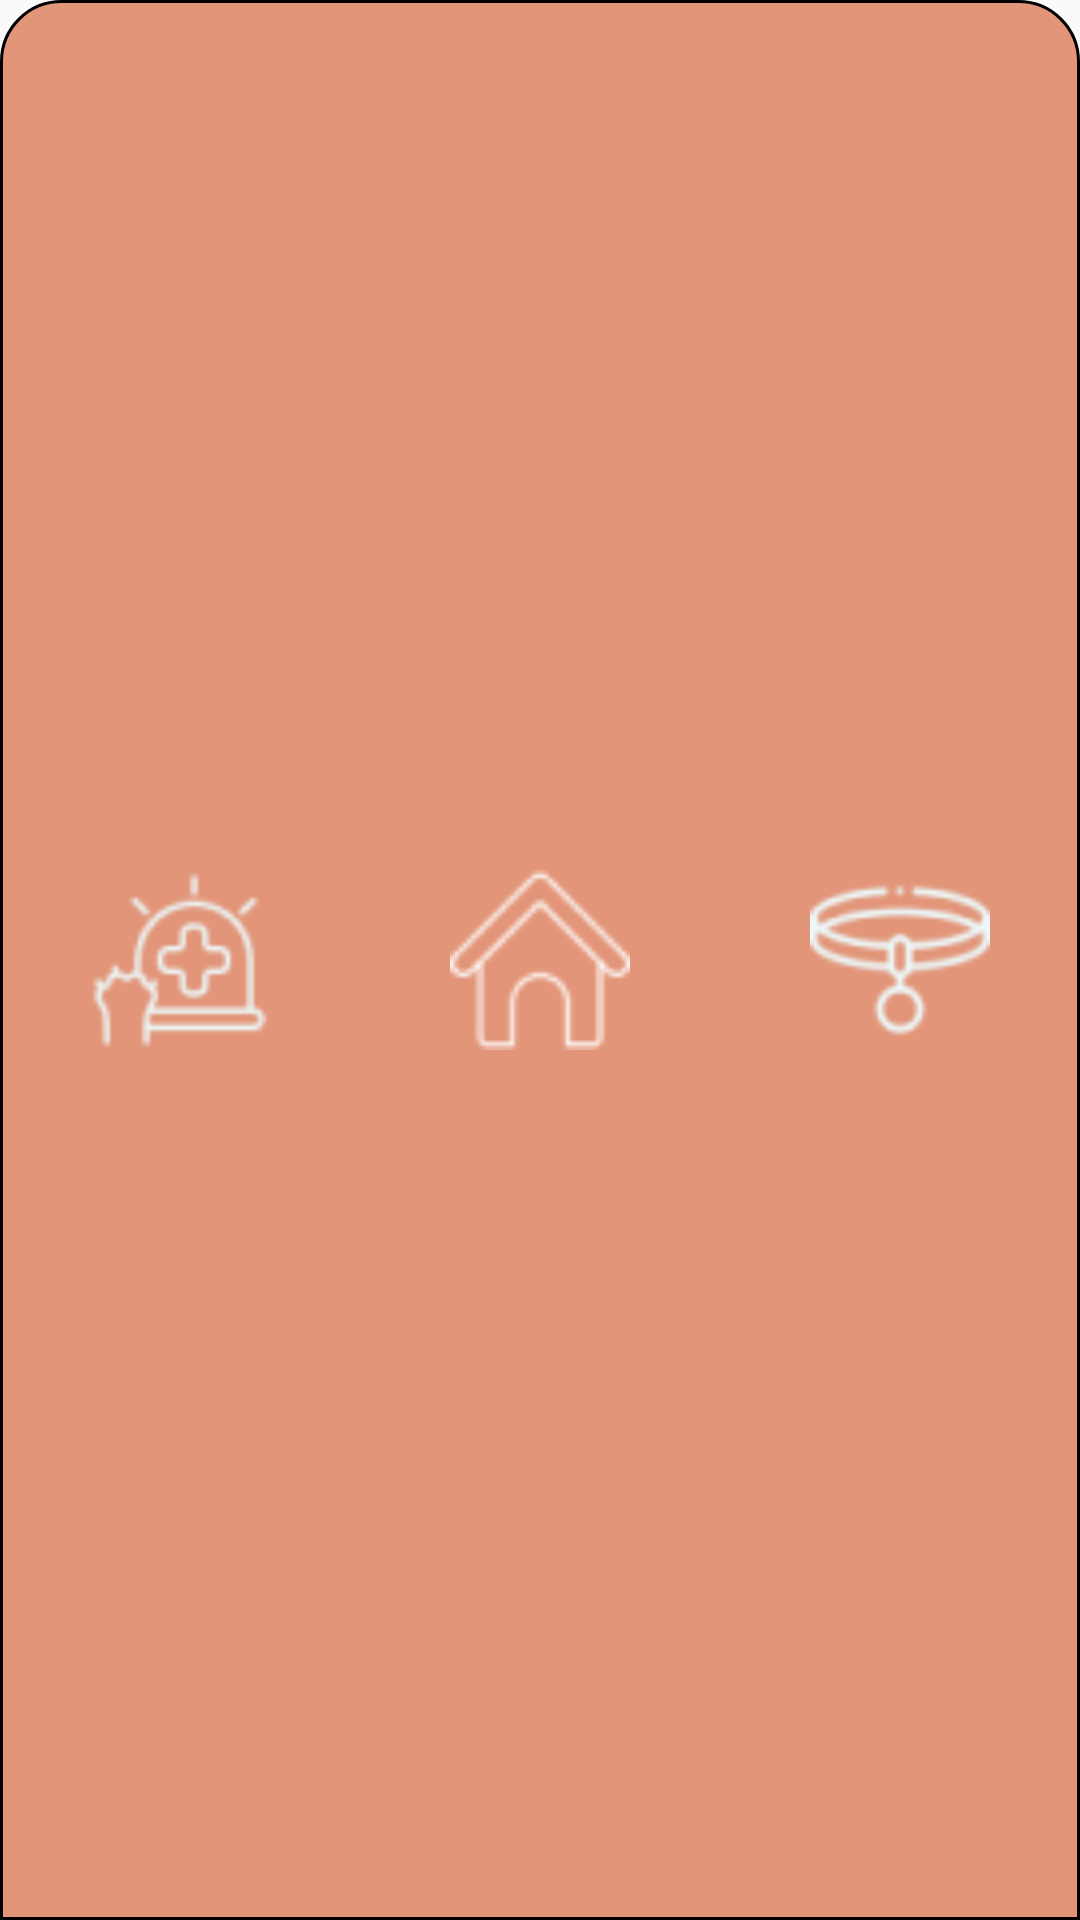

Screen size 1080w x 1920h. Icon name, then its center in pixels as (x=x, y=y):
dog collar: (x=900, y=960)
house: (x=540, y=960)
pet recovery: (x=180, y=960)
